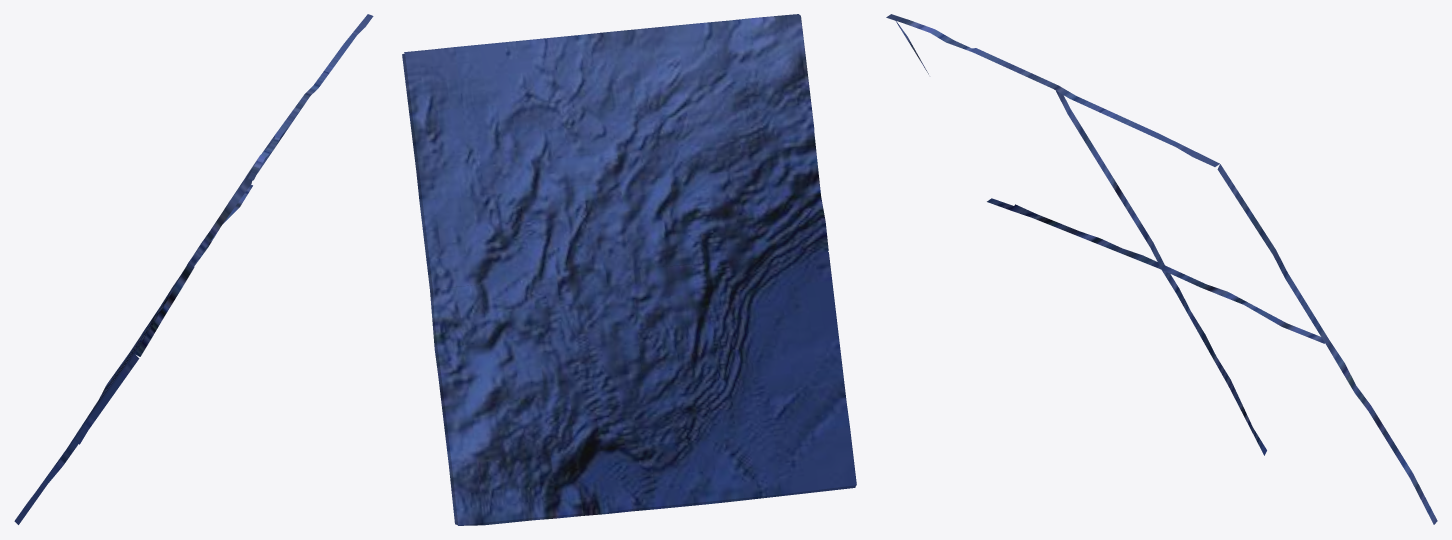
The picture shows the model from 3 angles, left to right: view 1: azimuth 30°, elevation 25°; view 2: azimuth 150°, elevation 25°; view 3: azimuth 270°, elevation 25°; orthographic projection. The views are drawn at different scales.
Bounding box in the file's own units: 153852 × 137316 × 152123.
Materials: 1 (1 with a texture image).
